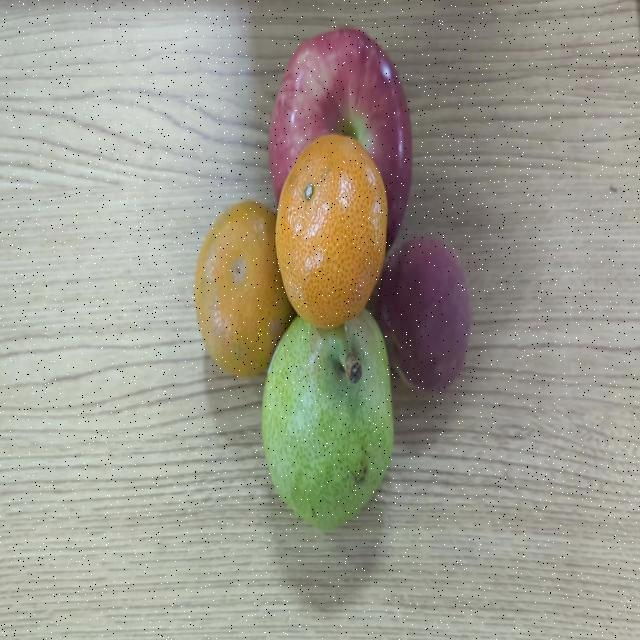Apel Merah: (271, 12, 415, 181)
Jeruk Mandarin: (274, 129, 391, 327), (193, 194, 294, 378)
Persik: (378, 226, 478, 399)
Pir: (263, 320, 398, 530)
